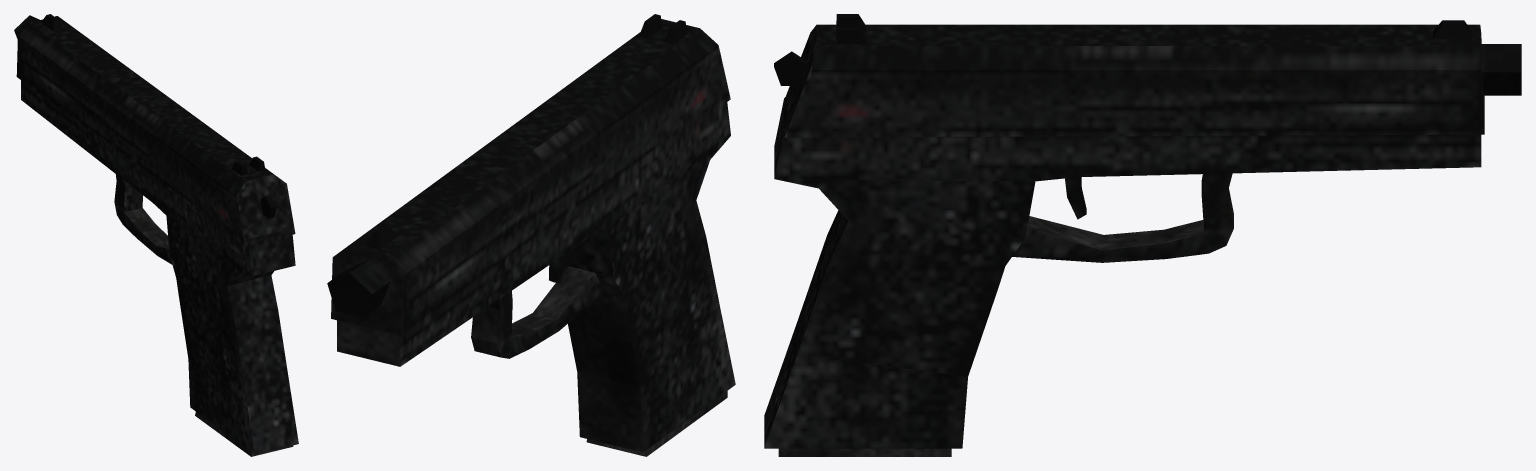
Rendered from Pistol.fbx.
The picture shows the model from 3 angles, left to right: view 1: azimuth 30°, elevation 25°; view 2: azimuth 150°, elevation 25°; view 3: azimuth 270°, elevation 25°; orthographic projection. The views are drawn at different scales.
Visible parts, largest first — view 1: pistole_mainframe, Pistol_toppart, Pistol_magazine; view 2: pistole_mainframe, Pistol_toppart, Pistol_magazine, Pistol_Trigger; view 3: pistole_mainframe, Pistol_toppart, Pistol_magazine, pistol_idkthenameofthispart.
Part boxes in pixels (bbox=[...]): pistole_mainframe: bbox=[14, 15, 298, 454]; Pistol_toppart: bbox=[16, 14, 295, 246]; Pistol_magazine: bbox=[195, 412, 293, 456]; pistole_mainframe: bbox=[327, 102, 735, 452]; Pistol_toppart: bbox=[331, 14, 730, 336]; Pistol_magazine: bbox=[586, 391, 727, 456]; Pistol_Trigger: bbox=[549, 252, 569, 284]; pistole_mainframe: bbox=[764, 44, 1521, 448]; Pistol_toppart: bbox=[784, 14, 1484, 137]; Pistol_magazine: bbox=[778, 448, 951, 456]; pistol_idkthenameofthispart: bbox=[774, 51, 805, 85].
Bounding box in the file's own units: 5.92 × 30.85 × 50.51.
1 material, 1 textured.
